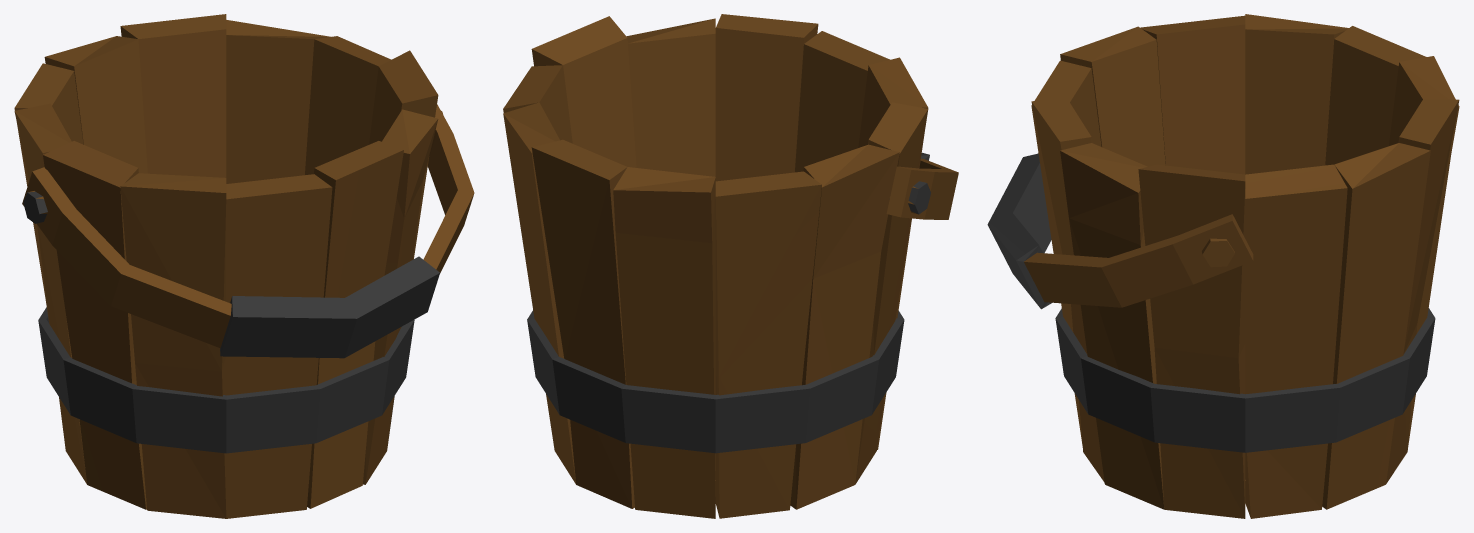
The model's file is bucket_Decoration_01.fbx.
The picture shows the model from 3 angles, left to right: view 1: azimuth 30°, elevation 25°; view 2: azimuth 150°, elevation 25°; view 3: azimuth 270°, elevation 25°; orthographic projection.
Visible parts, largest first — view 1: Bucket; view 2: Bucket; view 3: Bucket.
Part boxes in pixels (x1,y1,x2,y2): Bucket: (14, 14, 474, 518); Bucket: (503, 14, 958, 518); Bucket: (987, 14, 1459, 518).
Size of the model in its own units: 57.07 by 48.52 by 57.73.
